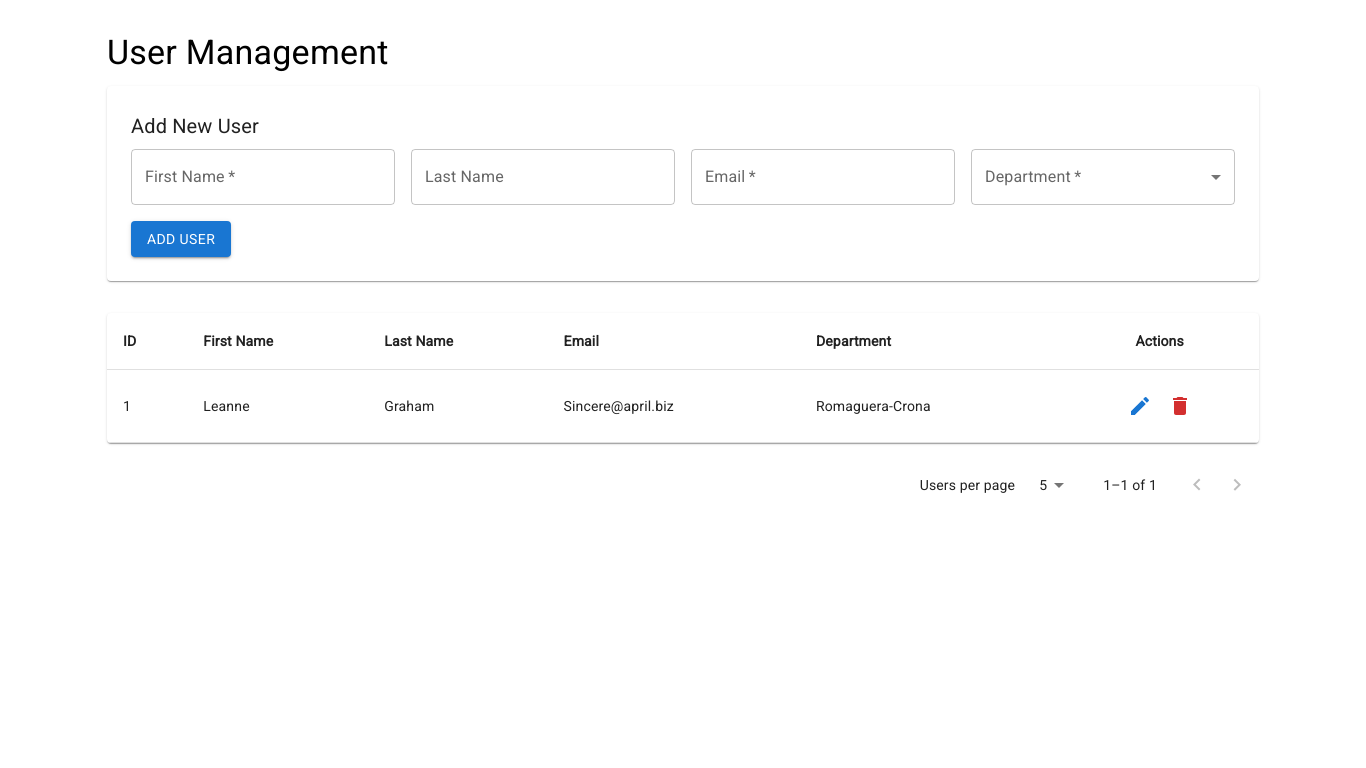
UserManagement Component › handles edit user
This screenshot has width=1366, height=768.
Note: Click the edit button for the user
Click the button named "edit" at (1140, 406), box [1120,386,1160,426]
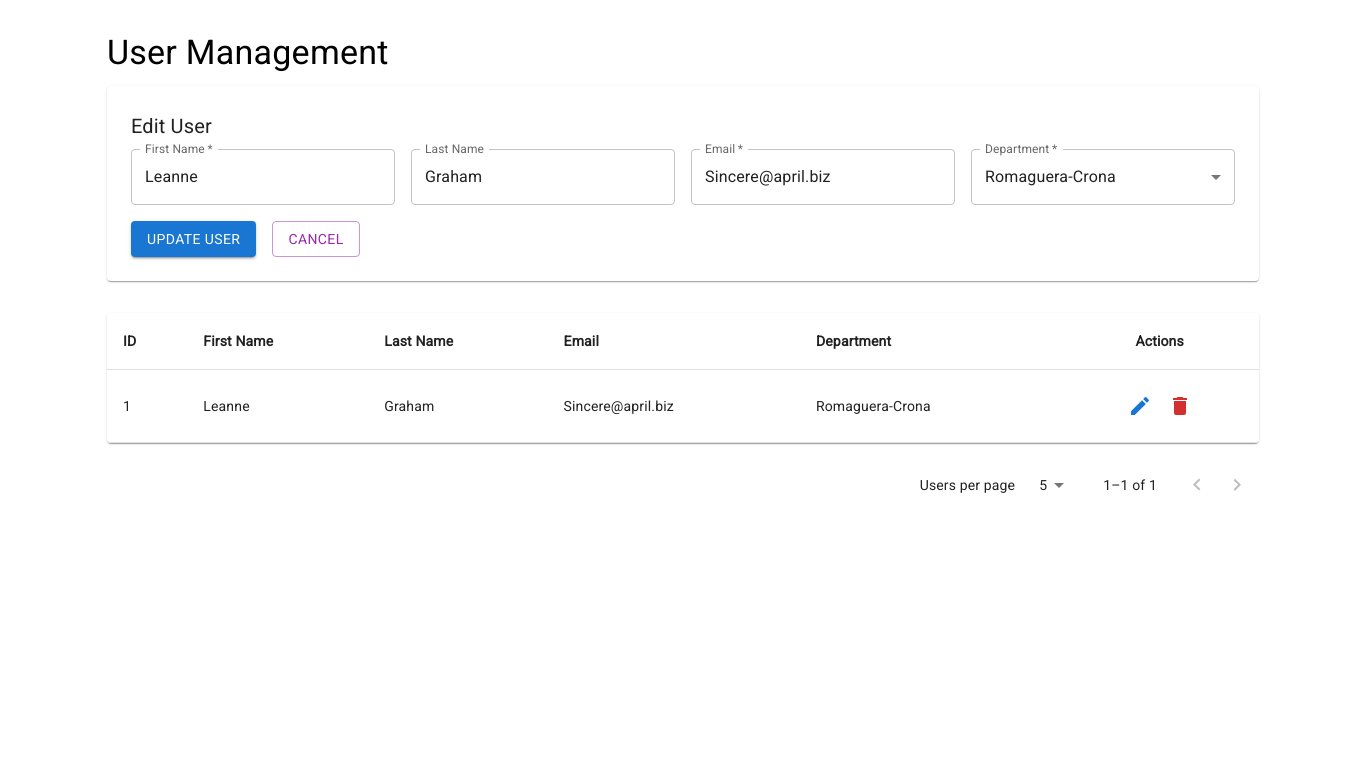
Check: the heading "Edit User" is shown, box [131,114,212,138]
Note: Update the user's first name
Replace the text in the field labelled "First Name *" with "Jane" at (263, 177), box [131,149,395,205]
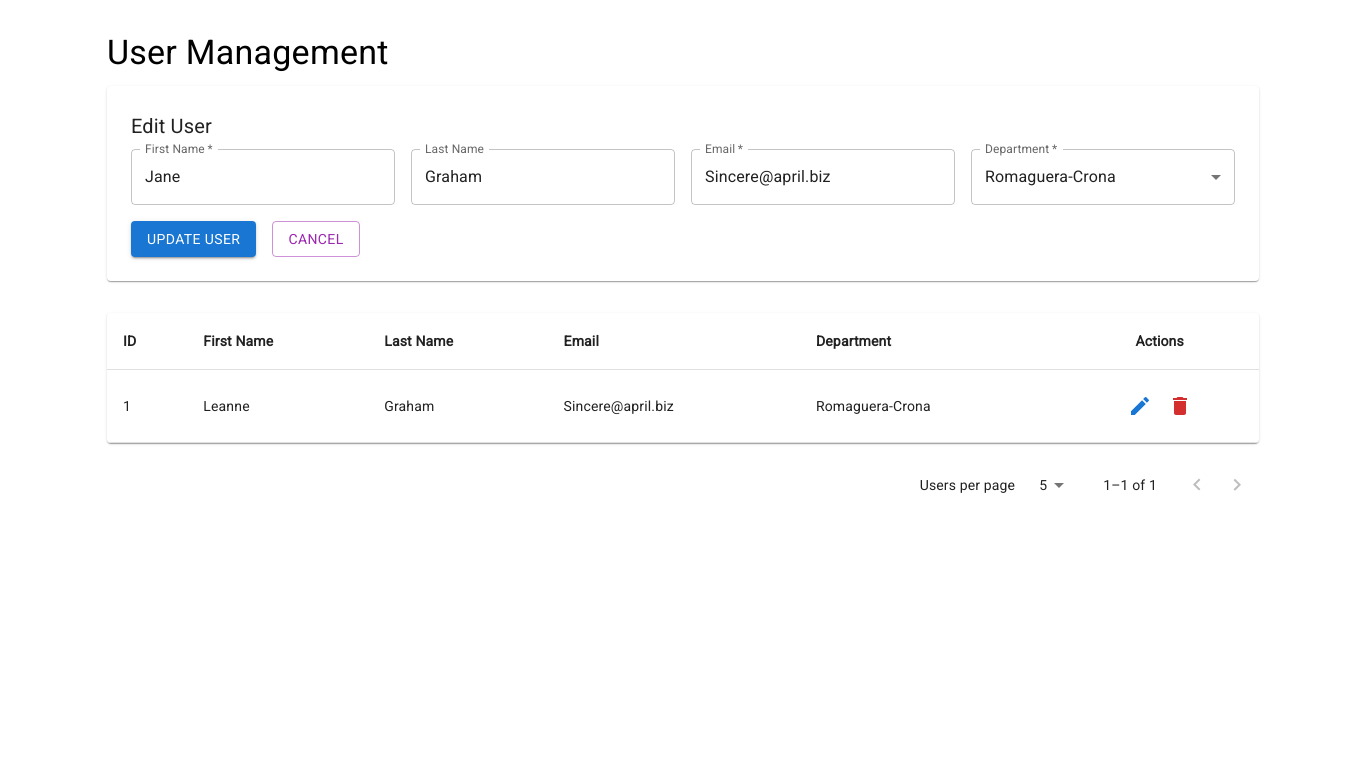
Note: Submit the form
Click the button "Update User" at (194, 239), box [131,221,256,257]
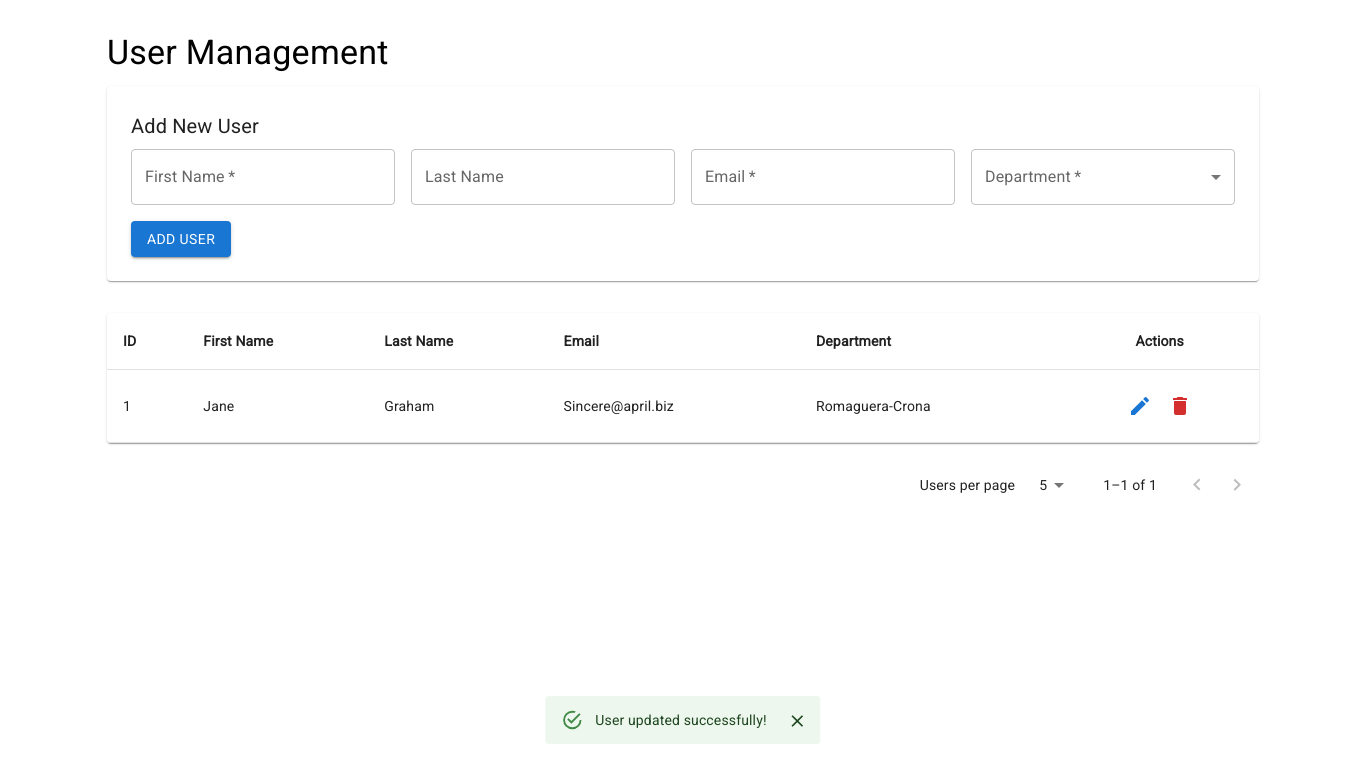
Check: the text "User updated successfully!" is shown, box [595,712,767,728]
Check: the text "Jane" is shown, box [187,370,368,443]
Check: the text "Leanne" is gone
